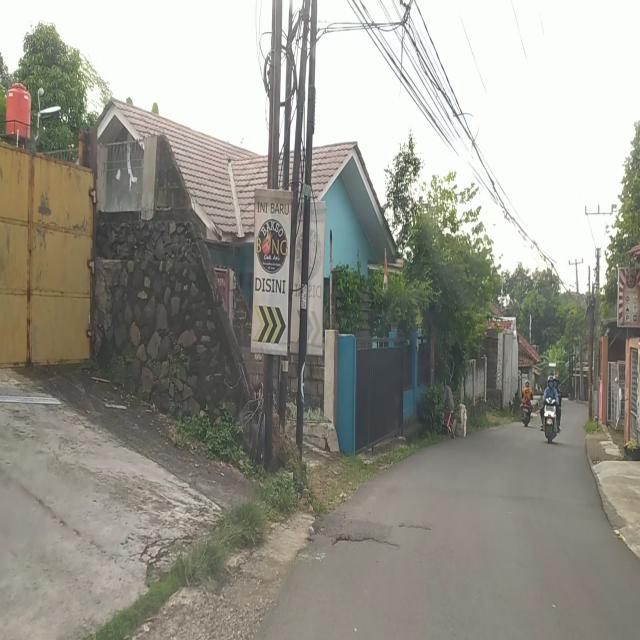Sewer Cover: (325, 528, 400, 553), (398, 520, 432, 531)
